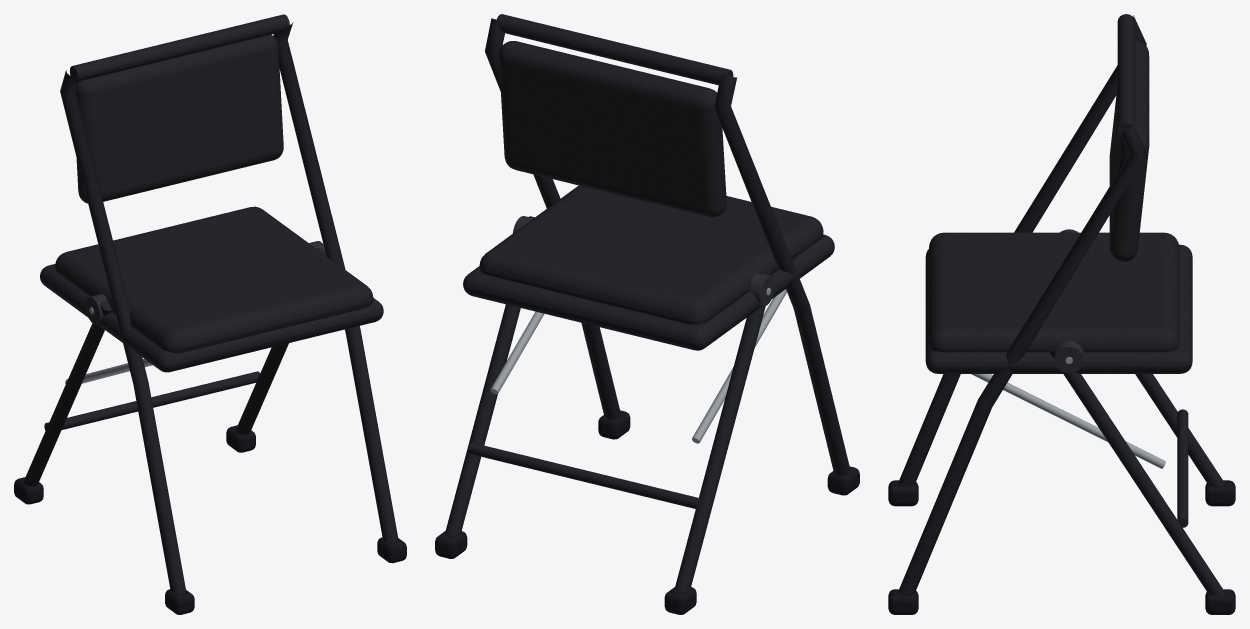
File: 02_folding_chair_open.glb
3 views of the same model, side by side, from view 1: azimuth 30°, elevation 25°; view 2: azimuth 150°, elevation 25°; view 3: azimuth 270°, elevation 25° (orthographic). The views are drawn at different scales.
Visible parts, largest first — view 1: 02_folding_chair_open__seat_pad, 02_folding_chair_open__back_pad, 02_folding_chair_open__main_tube, 02_folding_chair_open__main_tube.001, 02_folding_chair_open__seat_frame, 02_folding_chair_open__back_top, 02_folding_chair_open__rear_leg, 02_folding_chair_open__leg_crossbrace, 02_folding_chair_open__rear_leg.001, 02_folding_chair_open__rubber_foot, 02_folding_chair_open__rubber_foot.002, 02_folding_chair_open__rubber_foot.003 (+1 smaller); view 2: 02_folding_chair_open__back_pad, 02_folding_chair_open__seat_pad, 02_folding_chair_open__seat_frame, 02_folding_chair_open__main_tube, 02_folding_chair_open__rear_leg, 02_folding_chair_open__back_top, 02_folding_chair_open__rear_leg.001, 02_folding_chair_open__main_tube.001, 02_folding_chair_open__leg_crossbrace, 02_folding_chair_open__fold_brace, 02_folding_chair_open__fold_brace.001, 02_folding_chair_open__rubber_foot.003 (+4 smaller); view 3: 02_folding_chair_open__seat_pad, 02_folding_chair_open__main_tube.001, 02_folding_chair_open__seat_frame, 02_folding_chair_open__main_tube, 02_folding_chair_open__back_pad, 02_folding_chair_open__rear_leg.001, 02_folding_chair_open__back_top, 02_folding_chair_open__rear_leg, 02_folding_chair_open__fold_brace.001, 02_folding_chair_open__leg_crossbrace, 02_folding_chair_open__hinge.001, 02_folding_chair_open__rubber_foot.001 (+3 smaller).
Boxes of the visible parts, box(x1,y1,x2,y2) form: 02_folding_chair_open__seat_pad: box(55, 206, 373, 353); 02_folding_chair_open__back_pad: box(75, 34, 283, 203); 02_folding_chair_open__main_tube: box(60, 70, 185, 593); 02_folding_chair_open__main_tube.001: box(273, 22, 398, 541); 02_folding_chair_open__seat_frame: box(40, 264, 383, 372); 02_folding_chair_open__back_top: box(70, 14, 289, 82); 02_folding_chair_open__rear_leg: box(23, 299, 112, 486); 02_folding_chair_open__leg_crossbrace: box(44, 371, 259, 430); 02_folding_chair_open__rear_leg.001: box(235, 248, 326, 434); 02_folding_chair_open__rubber_foot: box(165, 589, 194, 614); 02_folding_chair_open__rubber_foot.002: box(377, 537, 406, 563); 02_folding_chair_open__rubber_foot.003: box(226, 425, 255, 452); 02_folding_chair_open__back_pad: box(498, 41, 726, 217); 02_folding_chair_open__seat_pad: box(479, 185, 823, 324); 02_folding_chair_open__seat_frame: box(463, 234, 834, 350); 02_folding_chair_open__main_tube: box(714, 75, 850, 475); 02_folding_chair_open__rear_leg: box(675, 272, 773, 591); 02_folding_chair_open__back_top: box(496, 14, 733, 85); 02_folding_chair_open__rear_leg.001: box(445, 216, 534, 535); 02_folding_chair_open__main_tube.001: box(485, 18, 620, 419); 02_folding_chair_open__leg_crossbrace: box(468, 442, 702, 509); 02_folding_chair_open__fold_brace: box(692, 289, 786, 443); 02_folding_chair_open__fold_brace.001: box(490, 311, 544, 394); 02_folding_chair_open__rubber_foot.003: box(435, 531, 467, 558); 02_folding_chair_open__seat_pad: box(929, 232, 1179, 352); 02_folding_chair_open__main_tube.001: box(898, 124, 1146, 595); 02_folding_chair_open__seat_frame: box(925, 244, 1192, 373); 02_folding_chair_open__main_tube: box(898, 15, 1146, 487); 02_folding_chair_open__back_pad: box(1109, 40, 1149, 261); 02_folding_chair_open__rear_leg.001: box(1048, 342, 1224, 595); 02_folding_chair_open__back_top: box(1117, 14, 1134, 136); 02_folding_chair_open__rear_leg: box(1135, 374, 1224, 486); 02_folding_chair_open__fold_brace.001: box(971, 374, 1165, 468); 02_folding_chair_open__leg_crossbrace: box(1177, 409, 1188, 527); 02_folding_chair_open__hinge.001: box(1054, 340, 1084, 373); 02_folding_chair_open__rubber_foot.001: box(1205, 480, 1235, 506).
Size of the model in its own units: 0.448 by 0.8605 by 0.553.
5 materials, 5 textured.
